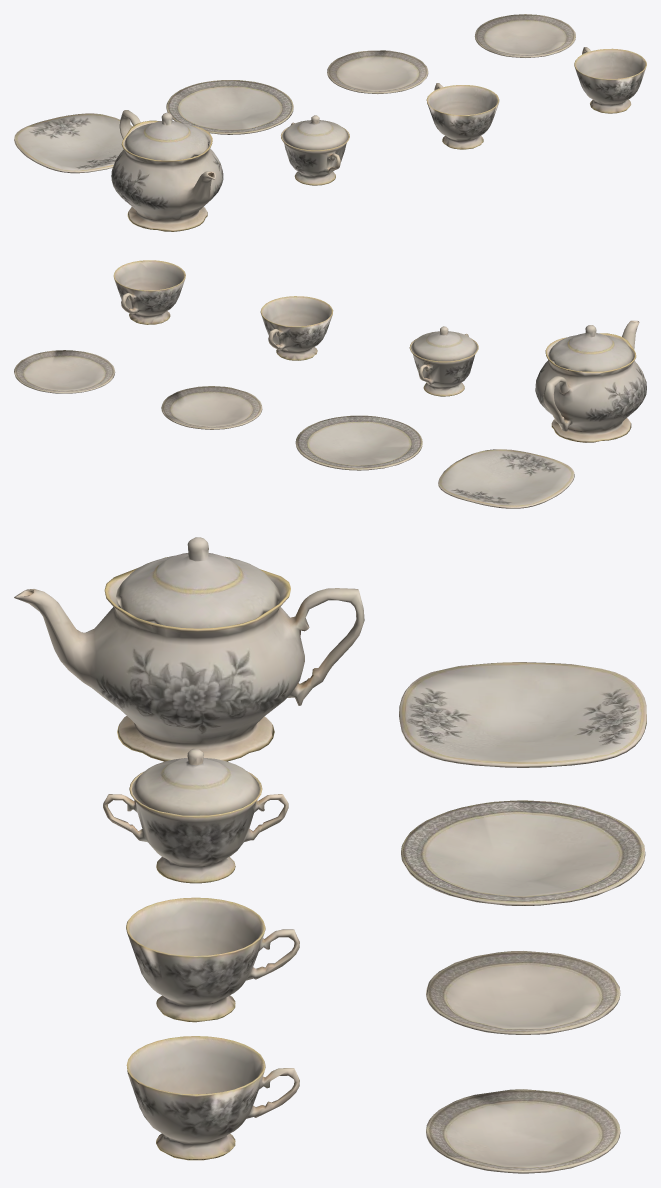
The model's file is tea_set.glb.
3 views of the same model, one above another, from view 1: azimuth 30°, elevation 25°; view 2: azimuth 150°, elevation 25°; view 3: azimuth 270°, elevation 25° (orthographic). The views are drawn at different scales.
Visible parts, largest first — view 1: tea_set_01_plate_large_square_01; view 2: tea_set_01_plate_large_square_01; view 3: tea_set_01_plate_large_square_01.
Boxes of the visible parts, x1,y1,x2,y2 form: tea_set_01_plate_large_square_01: (14, 14, 646, 231); tea_set_01_plate_large_square_01: (14, 260, 646, 508); tea_set_01_plate_large_square_01: (14, 537, 646, 1173).
Bounding box in the file's own units: 0.918 × 0.165 × 0.4834.
1 material, 1 textured.
